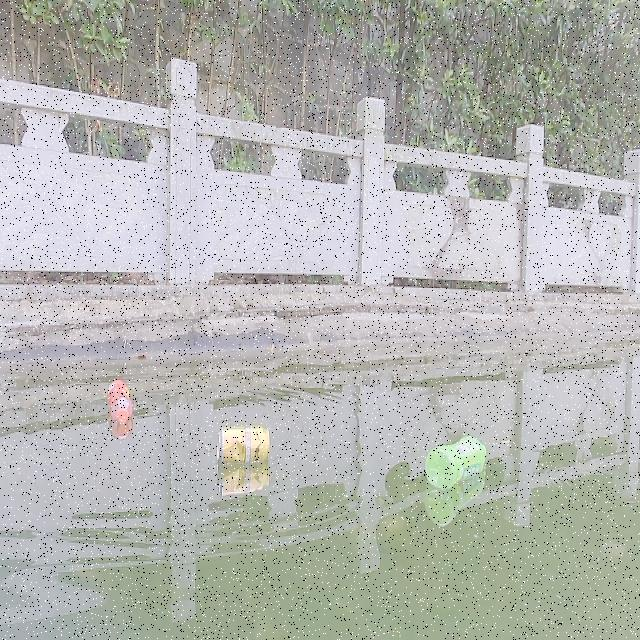bottle: (422, 432, 487, 488), (104, 377, 134, 424)
can: (216, 423, 270, 469)
